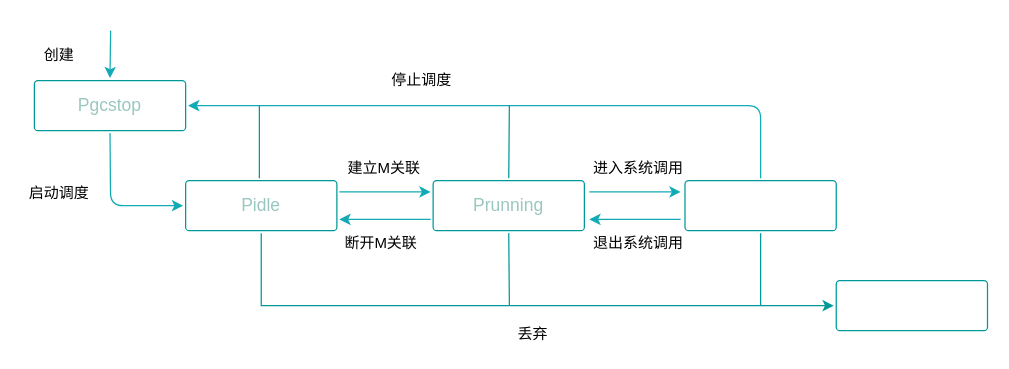
The diagram is 1009 pixels wide and 369 high, and some of its shapes have lost their labels. The centre of each missing label's shape, as x and y in pixels:
Pdead: [911,305]
Psyscall: [760,205]
